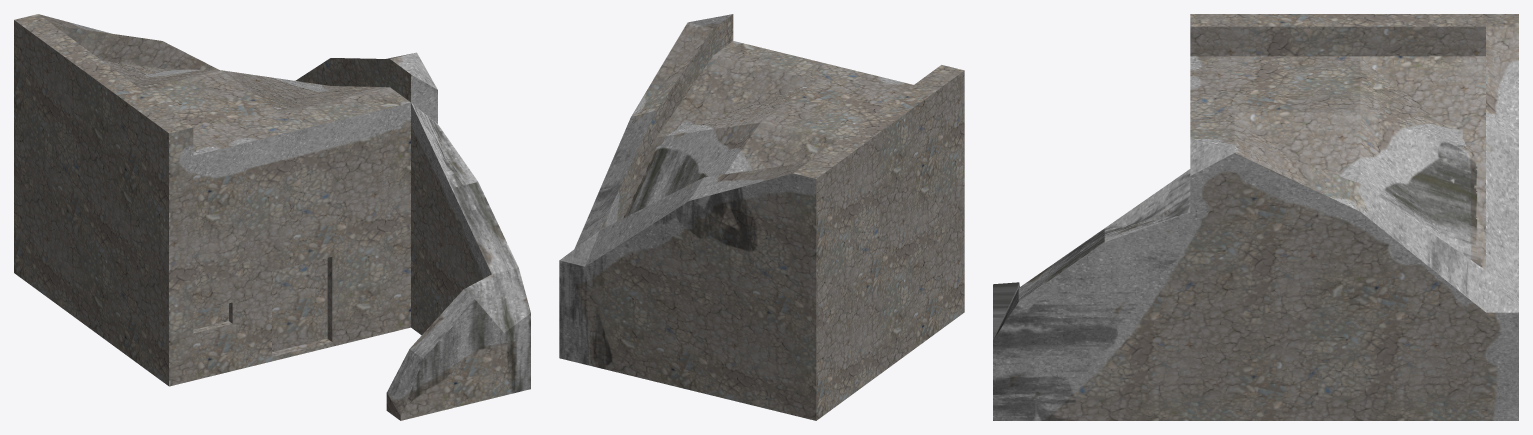
Rendered from building 11.glb.
The picture shows the model from 3 angles, left to right: view 1: azimuth 30°, elevation 25°; view 2: azimuth 150°, elevation 25°; view 3: azimuth 270°, elevation 25°; orthographic projection. The views are drawn at different scales.
Parts seen in each view (by area): view 1: Cube.002; view 2: Cube.002; view 3: Cube.002.
Part boxes in pixels (box(x1,y1,x2,y2)): Cube.002: box(14, 14, 530, 420); Cube.002: box(559, 14, 964, 420); Cube.002: box(993, 14, 1518, 420).
Bounding box in the file's own units: 10 × 9 × 16.
1 material, 1 textured.
